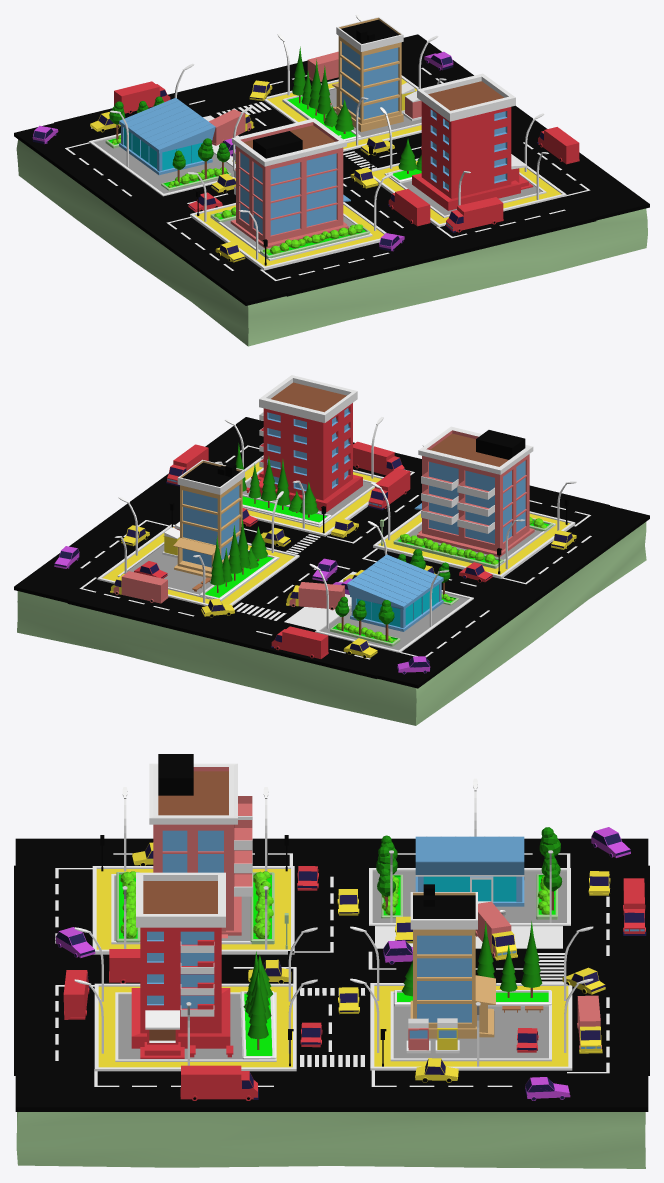
File: city.glb
3 renders of one model, top to bottom at view 1: azimuth 30°, elevation 25°; view 2: azimuth 150°, elevation 25°; view 3: azimuth 270°, elevation 25°, orthographic. The views are drawn at different scales.
Parts seen in each view (by area): view 1: ROAD, Floor_6, House, House_2, House_3, Shop, Floor, Floor_4_4, Floor_2, Car_08_4.001, Floor_3, Car_08_4.003 (+10 smaller); view 2: ROAD, Floor_6, House, House_2, House_3, Shop, Floor, Floor_3, Floor_4_4, Trees_2, Floor_2, Floor_4_3 (+11 smaller); view 3: ROAD, Floor_6, House_2, House, House_3, Shop, Floor_2, Floor_4_3, Floor_3, Floor, Floor_4_4, Floor_4.001 (+23 smaller).
Part boxes in pixels (<box>): ROAD: <box>14,34,649,305</box>; Floor_6: <box>16,139,647,346</box>; House: <box>230,118,350,248</box>; House_2: <box>412,73,533,210</box>; House_3: <box>332,17,403,132</box>; Shop: <box>119,97,215,175</box>; Floor: <box>190,202,386,270</box>; Floor_4_4: <box>88,133,235,196</box>; Floor_2: <box>371,154,566,227</box>; Car_08_4.001: <box>445,197,503,232</box>; Floor_3: <box>264,75,421,151</box>; Car_08_4.003: <box>114,81,170,113</box>; ROAD: <box>14,417,649,688</box>; Floor_6: <box>17,522,646,725</box>; House: <box>414,426,534,556</box>; House_2: <box>257,375,362,512</box>; House_3: <box>173,459,244,578</box>; Shop: <box>347,554,443,631</box>; Floor: <box>373,510,575,578</box>; Floor_3: <box>97,524,299,606</box>; Floor_4_4: <box>315,590,473,652</box>; Trees_2: <box>199,494,331,601</box>; Floor_2: <box>244,457,383,536</box>; Floor_4_3: <box>117,542,279,599</box>; ROAD: <box>14,838,649,1111</box>; Floor_6: <box>16,1112,645,1168</box>; House_2: <box>131,872,230,1058</box>; House: <box>149,754,252,938</box>; House_3: <box>410,884,495,1038</box>; Shop: <box>415,836,524,906</box>; Floor_2: <box>94,983,296,1071</box>; Floor_4_3: <box>390,991,551,1061</box>; Floor_3: <box>370,983,572,1070</box>; Floor: <box>92,866,294,954</box>; Floor_4_4: <box>369,868,570,926</box>; Floor_4.001: <box>115,992,276,1061</box>.
Size of the model in its own units: 21.92 by 7.44 by 21.92.
